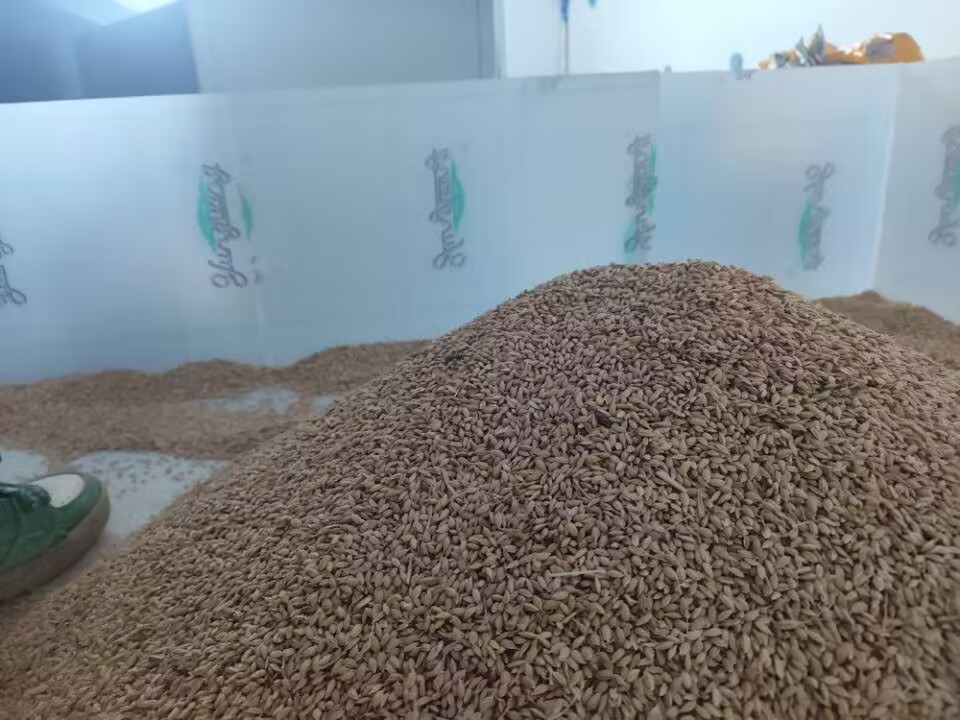Grain: (205, 221, 957, 710)
